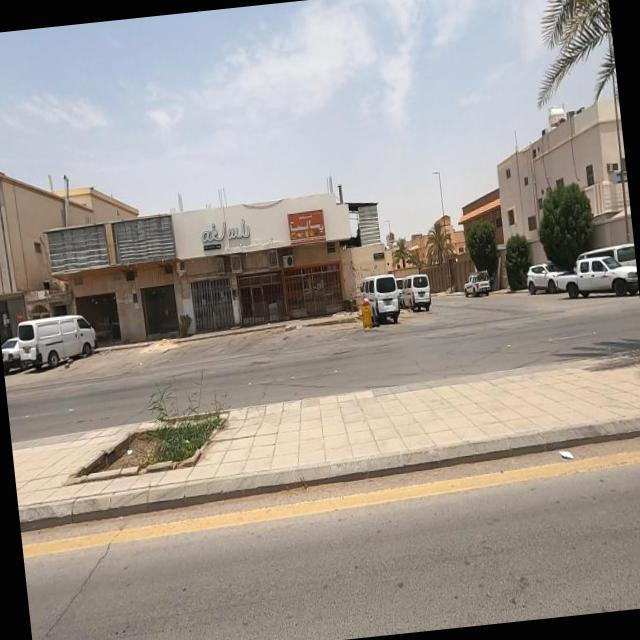debris: (88, 178, 217, 316), (6, 192, 150, 306), (532, 410, 602, 494), (345, 280, 383, 320)
